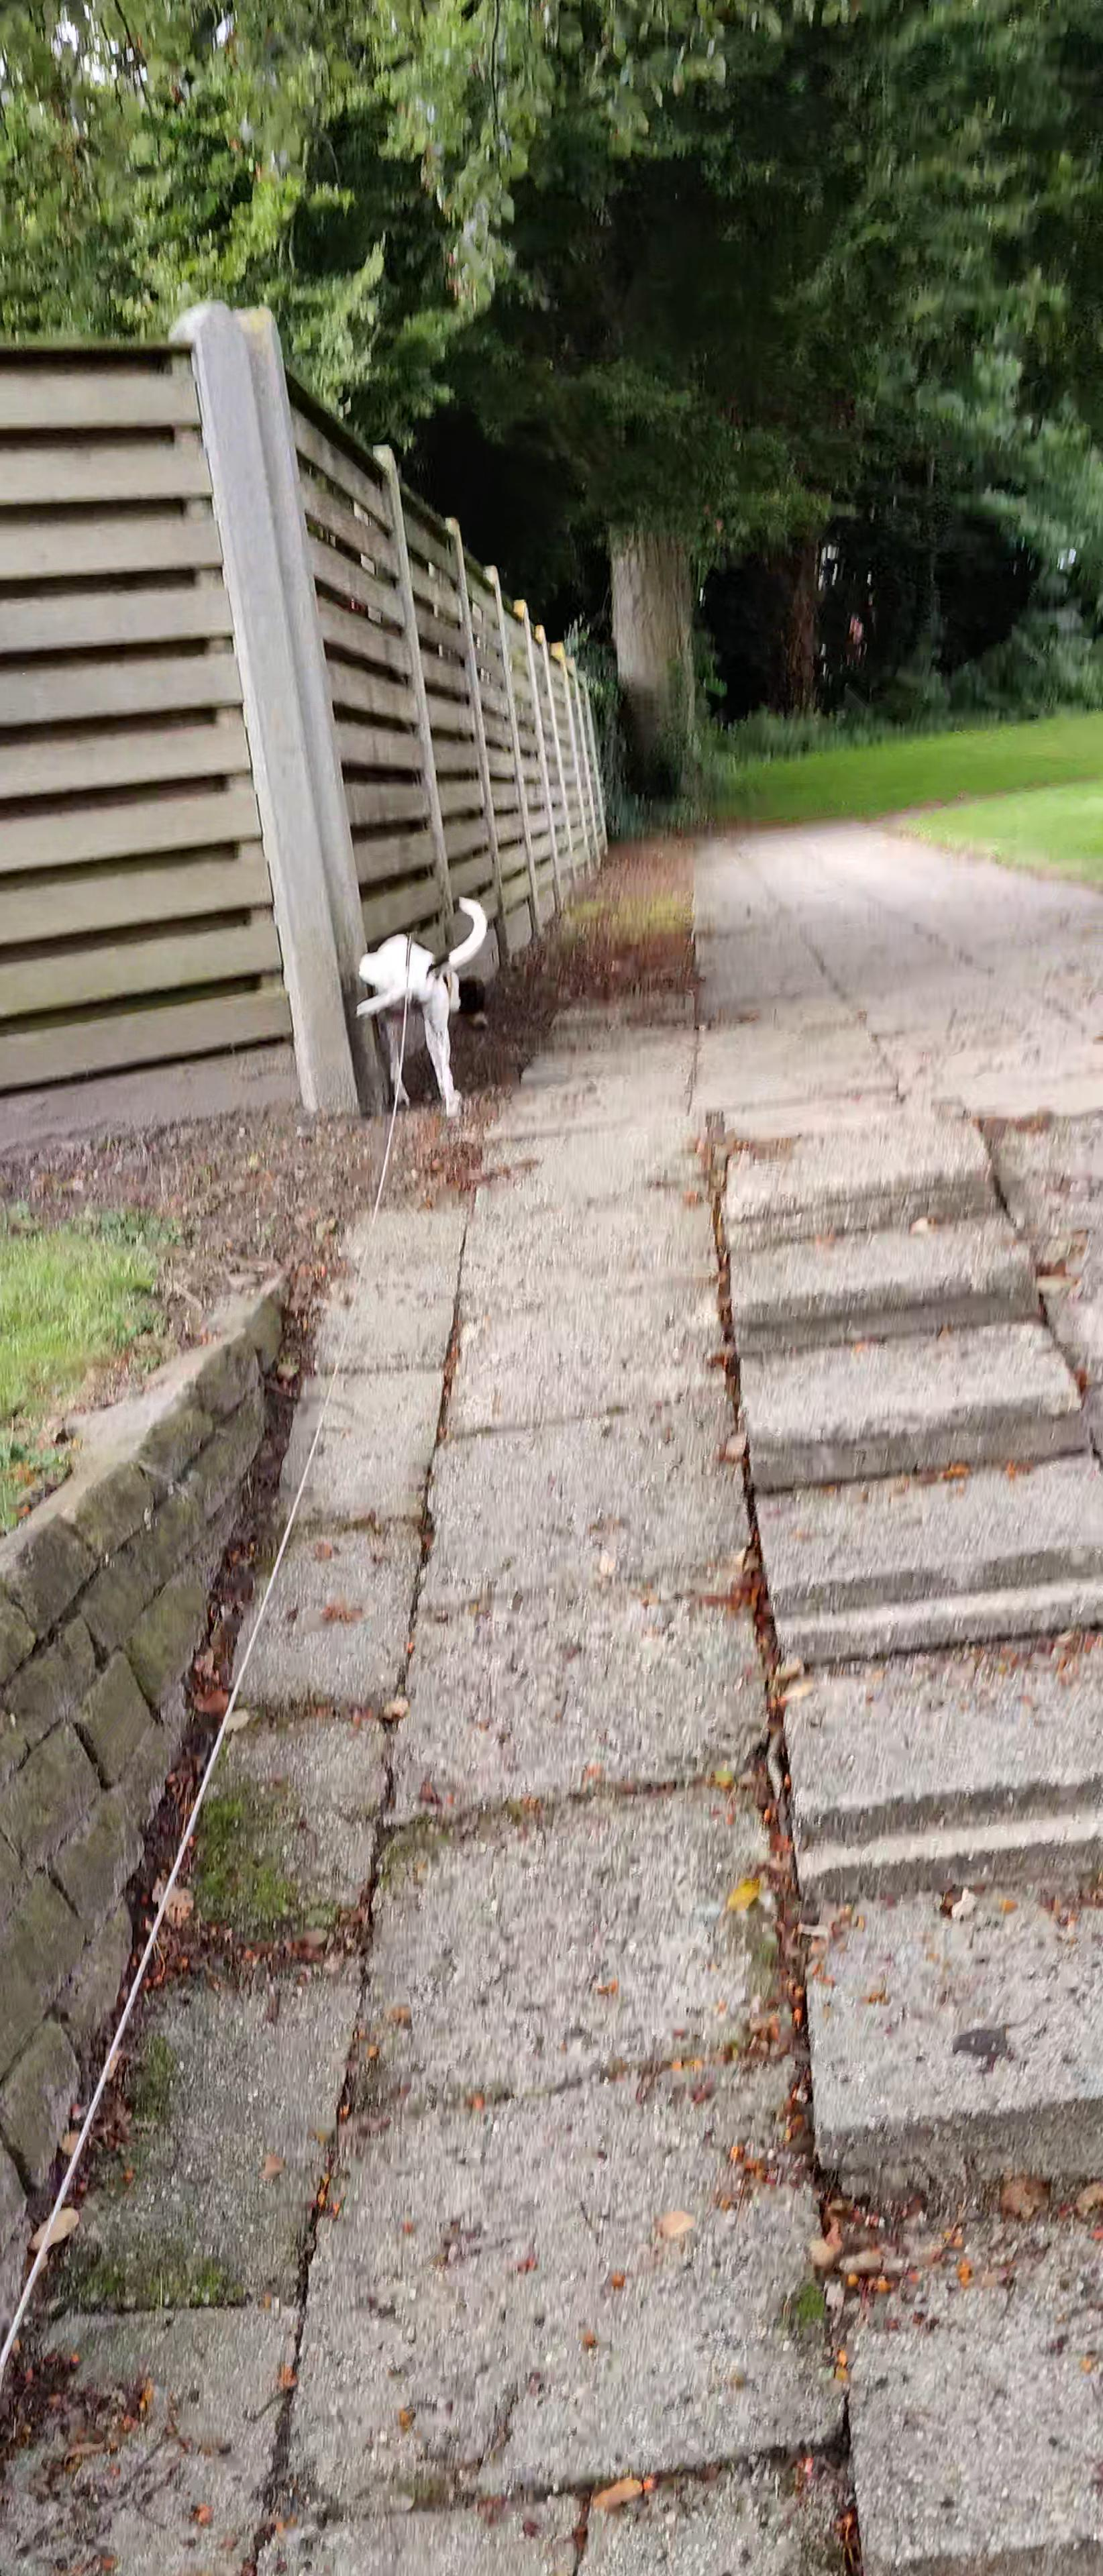Dog: (332, 872, 501, 1129)
